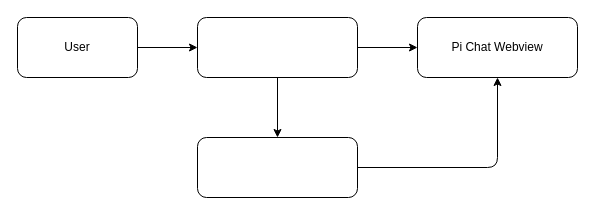
Image size: 595x215. Some labels were removed from this diagram. The centre of each missing label's shape, as x and y in pixels:
Extension ↔ Webview Bridge: the point at 277,167
VS Code Extension: the point at 277,47
